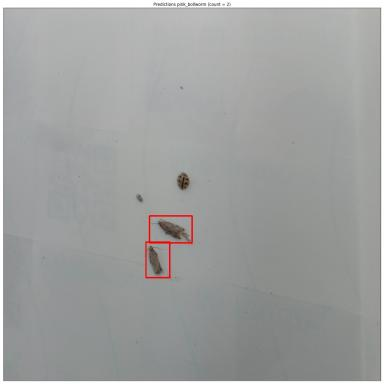pbw: (343, 361, 384, 384)
